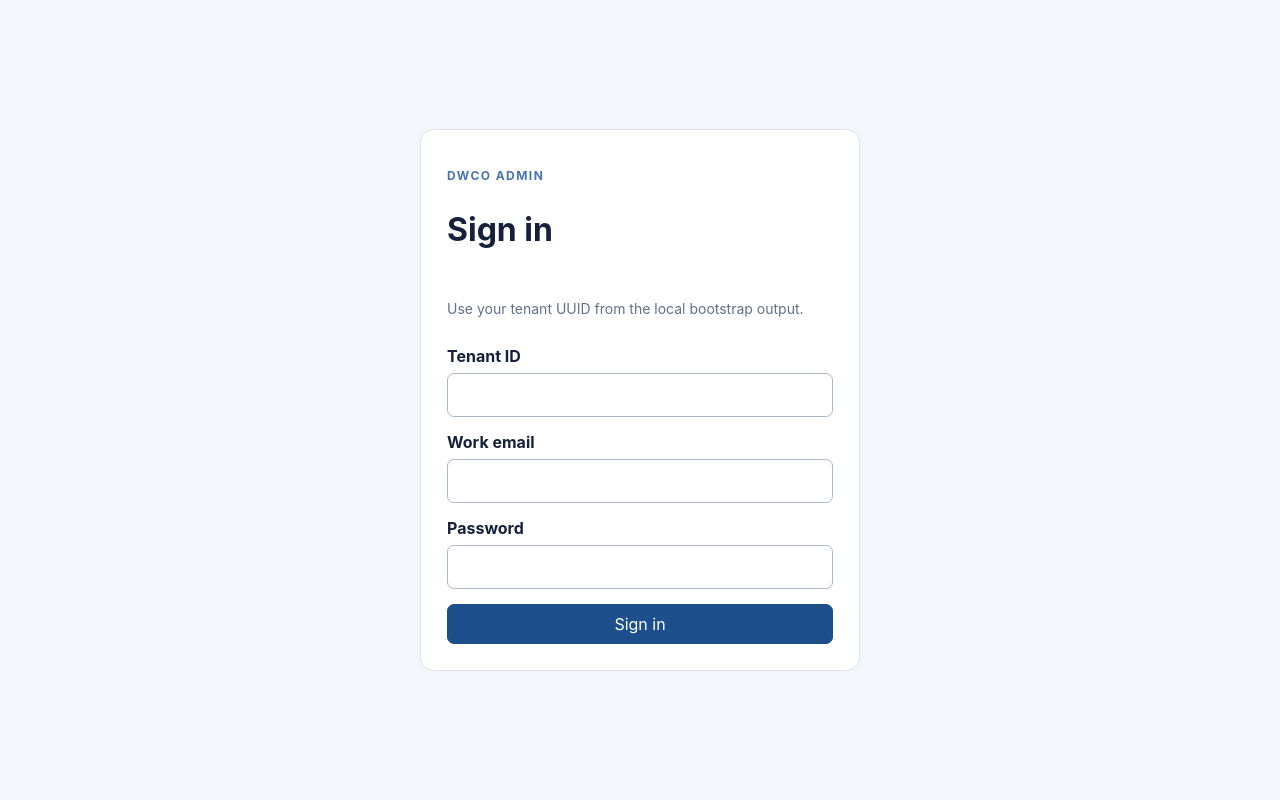
AdminShell › shows tenant presence records to directory readers
In the field labelled "Tenant ID": x=640, y=395 [447,373,833,417], type "tenant-a"
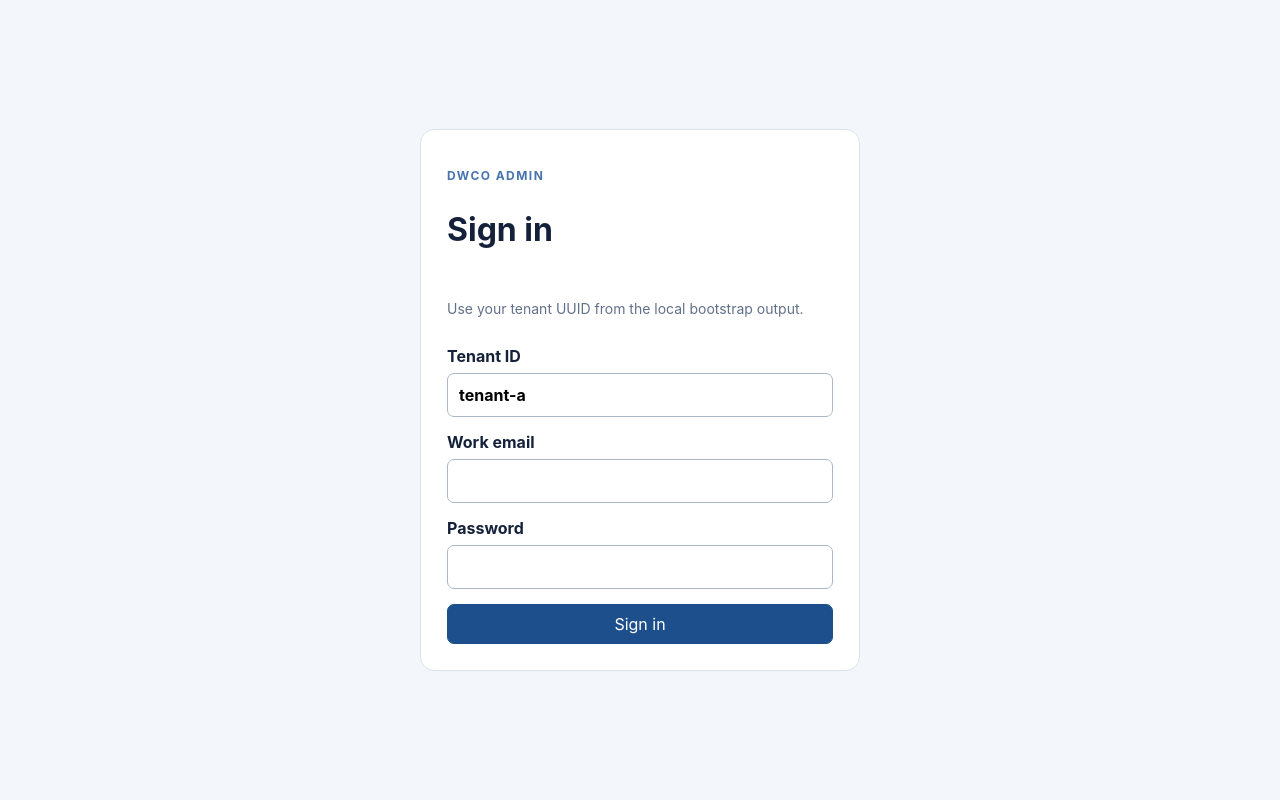
In the field labelled "Work email": x=640, y=481 [447,459,833,503], type "viewer@example.com"
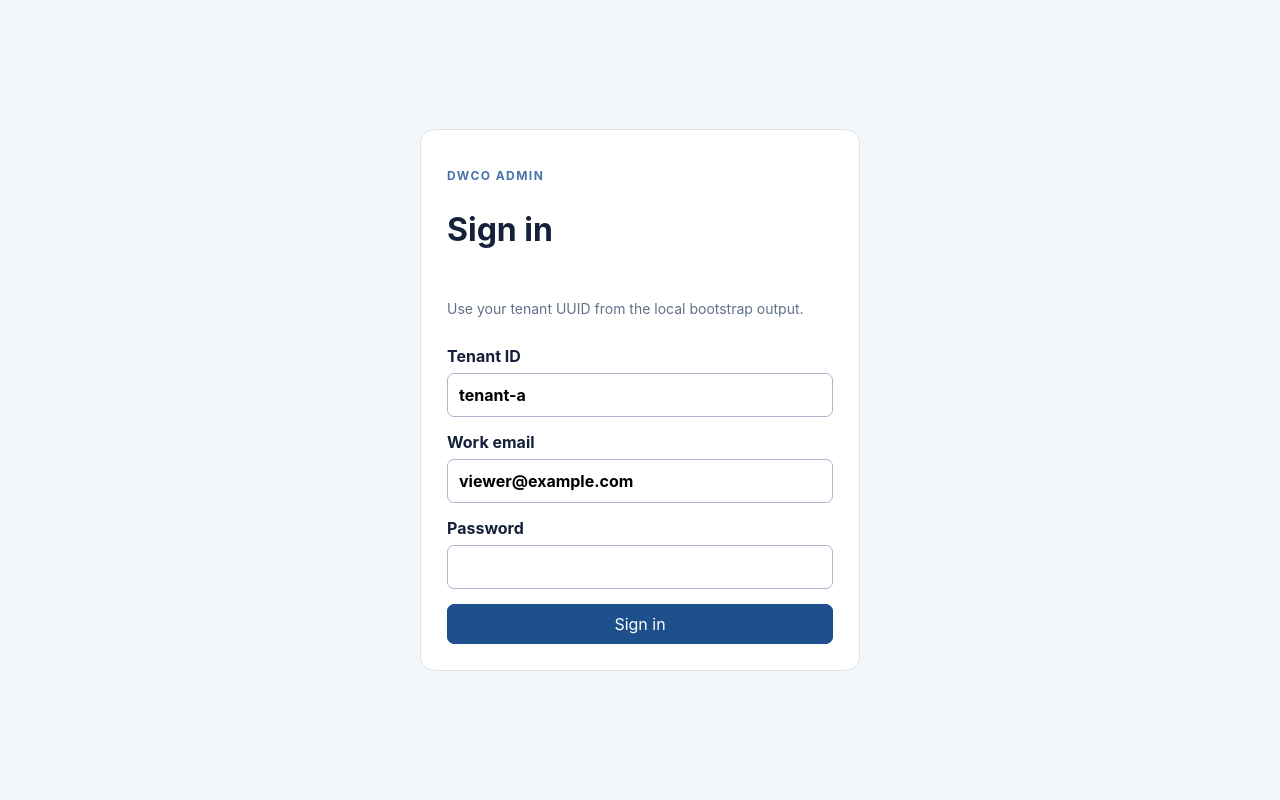
In the password field labelled "Password": x=640, y=567 [447,545,833,589], type "correct-password"
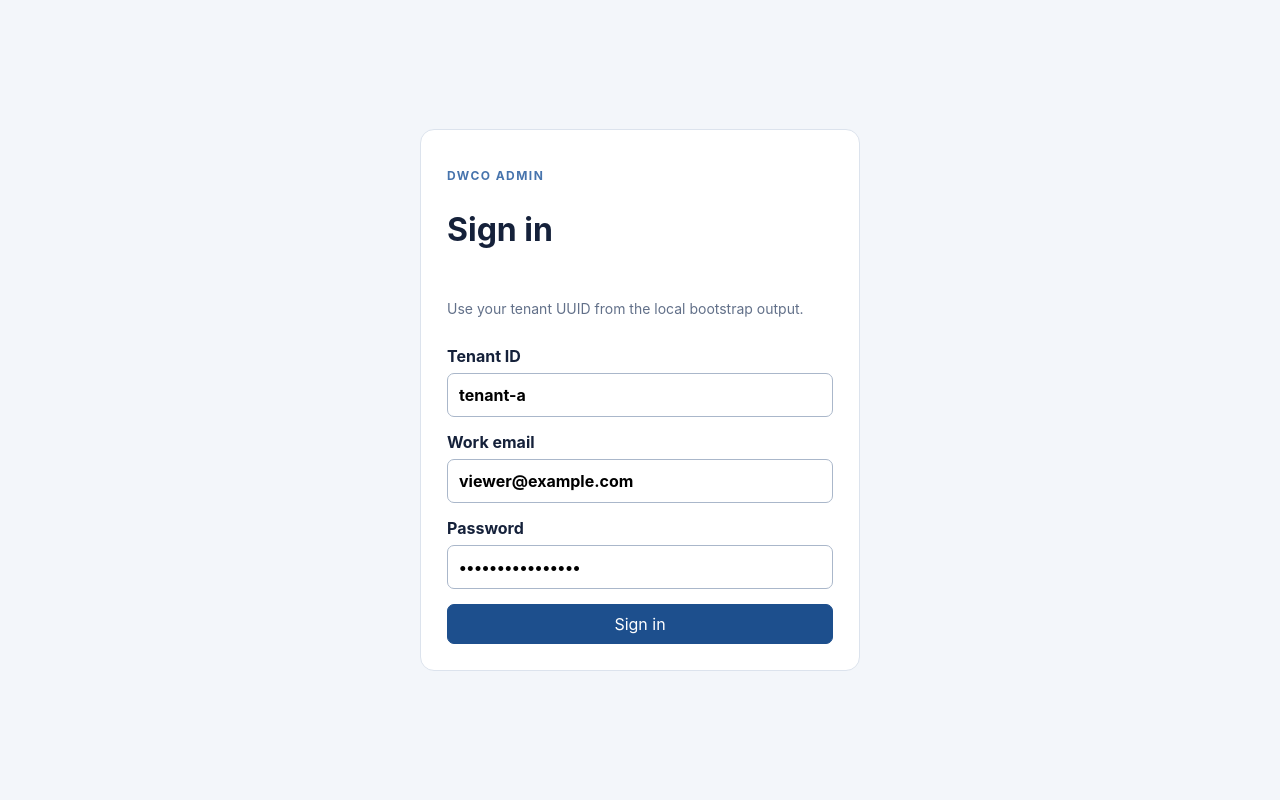
Click the button "Sign in": x=640, y=624 [447,604,833,644]
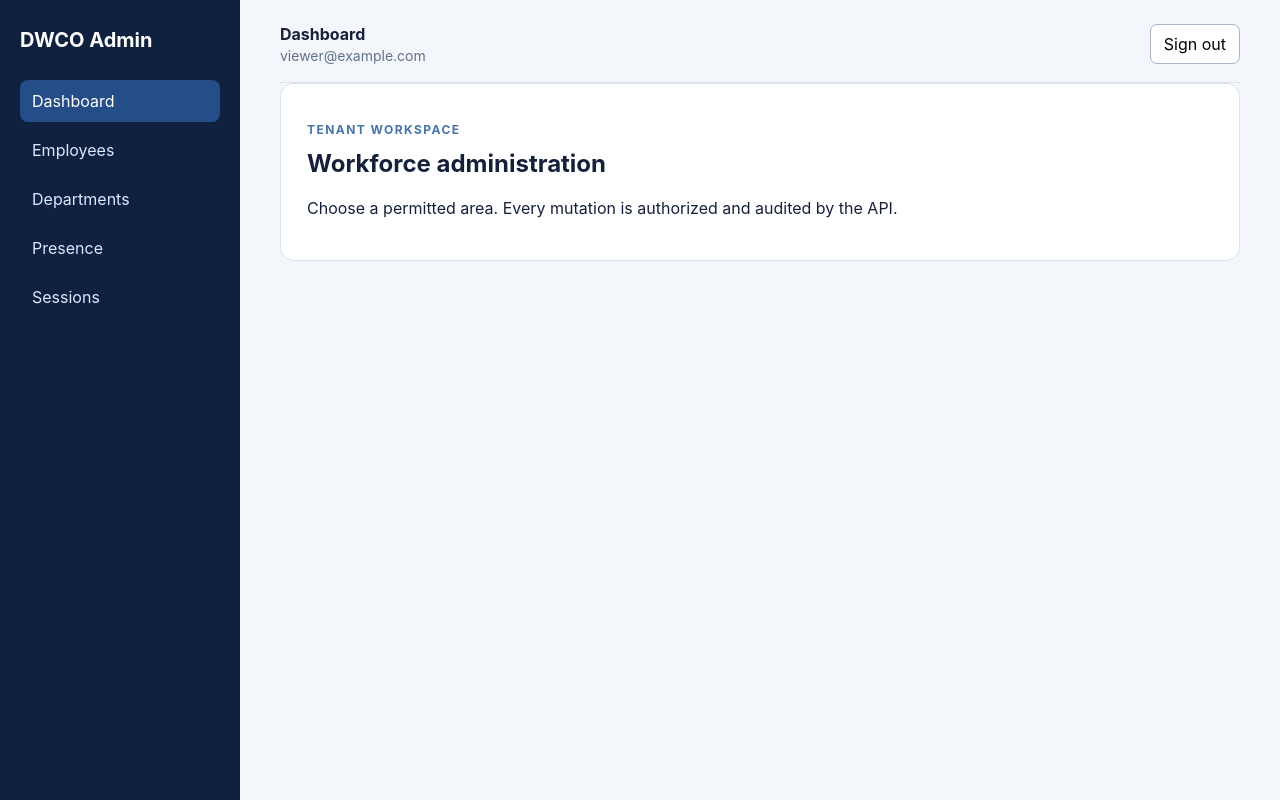
Click the button "Presence": x=120, y=248 [20,227,220,269]
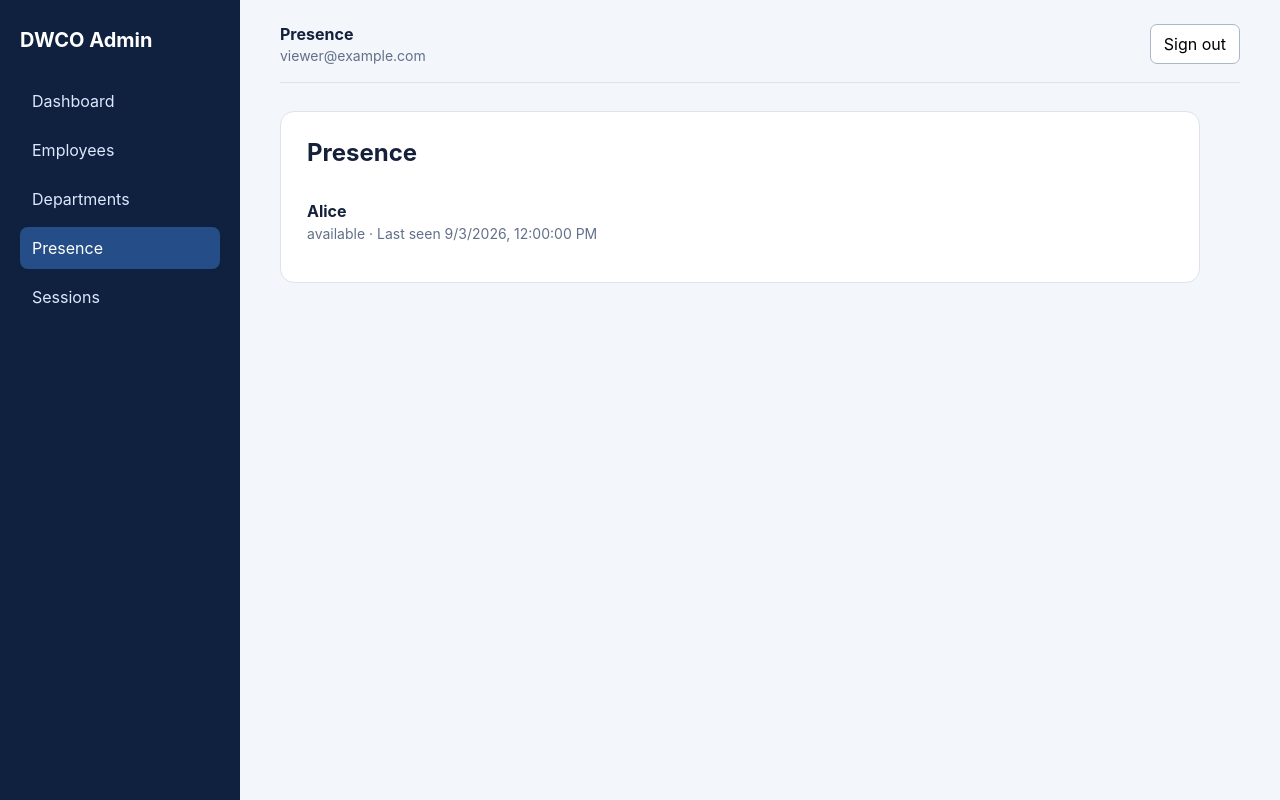
expect the text "Alice" is shown: met, box [307,201,347,221]
expect the text "available · Last seen 9/3/2026, 12:00:00 PM" is shown: met, box [307,225,597,242]
